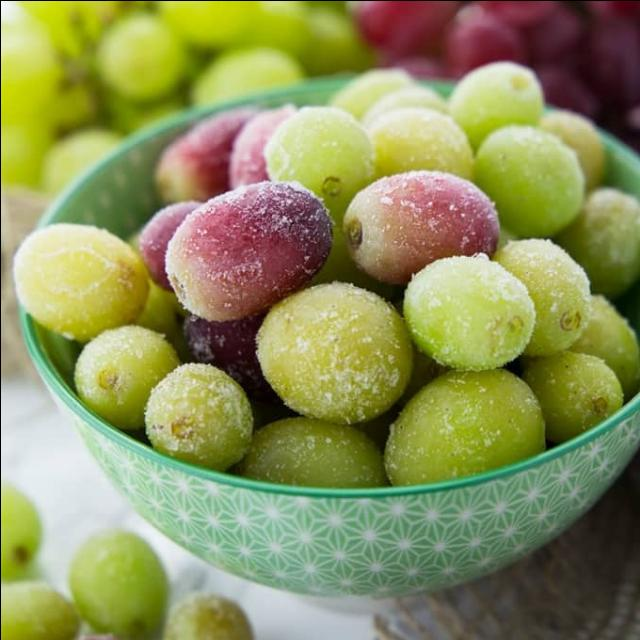Grapes: (166, 178, 330, 322), (256, 284, 408, 418), (387, 366, 543, 484), (402, 248, 534, 378), (344, 166, 500, 276), (16, 226, 146, 332), (142, 358, 254, 474), (482, 124, 586, 238), (262, 103, 372, 207), (497, 238, 587, 354), (451, 62, 539, 144)
